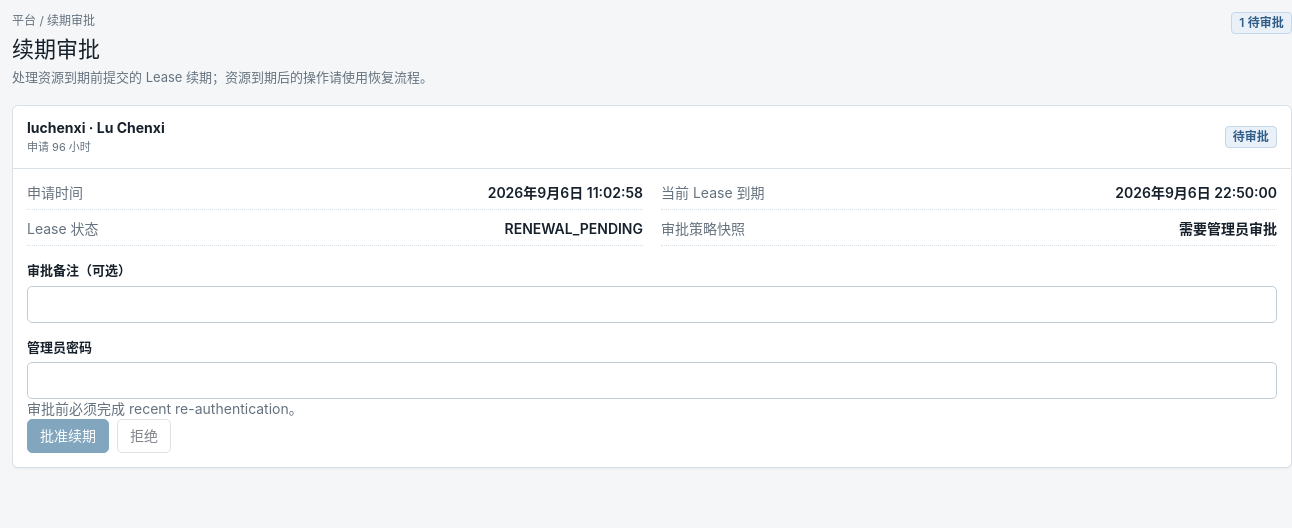
administrator lease renewal approval › shows a submitted renewal and reauthenticates before approval
The image size is (1292, 528).
expect the heading "续期审批" is shown: met, box [12,36,100,62]
expect the text "luchenxi · Lu Chenxi" is shown: met, box [27,118,165,138]
Type "fixture password only" into the password field labelled "管理员密码" at (652, 381), box [27,362,1277,399]
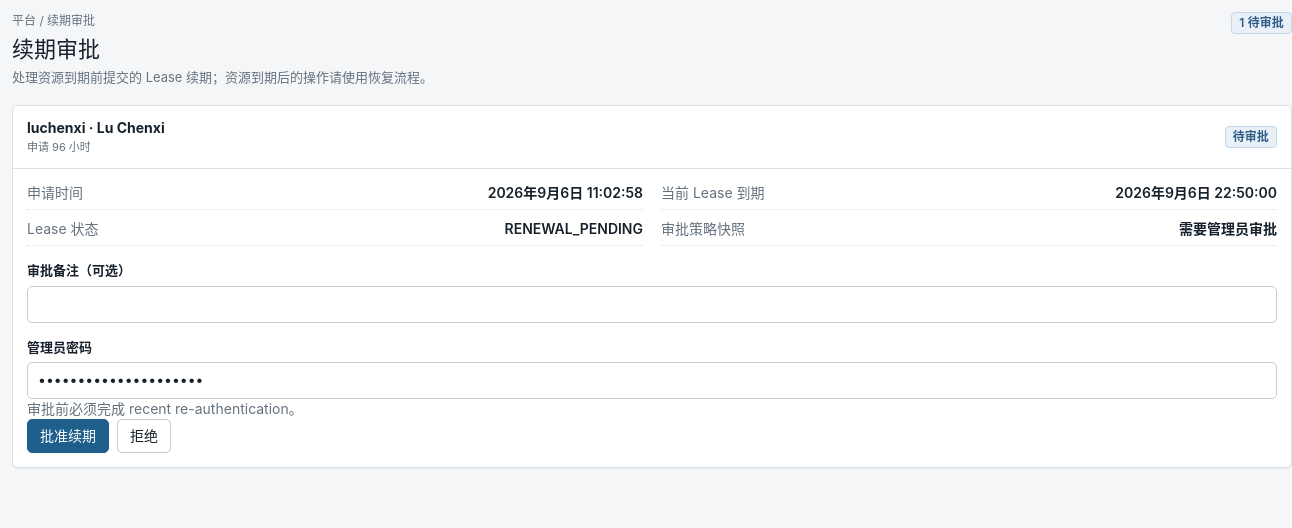
Type "  approved after review  " into the field labelled "审批备注（可选）" at (652, 304), box [27,286,1277,323]
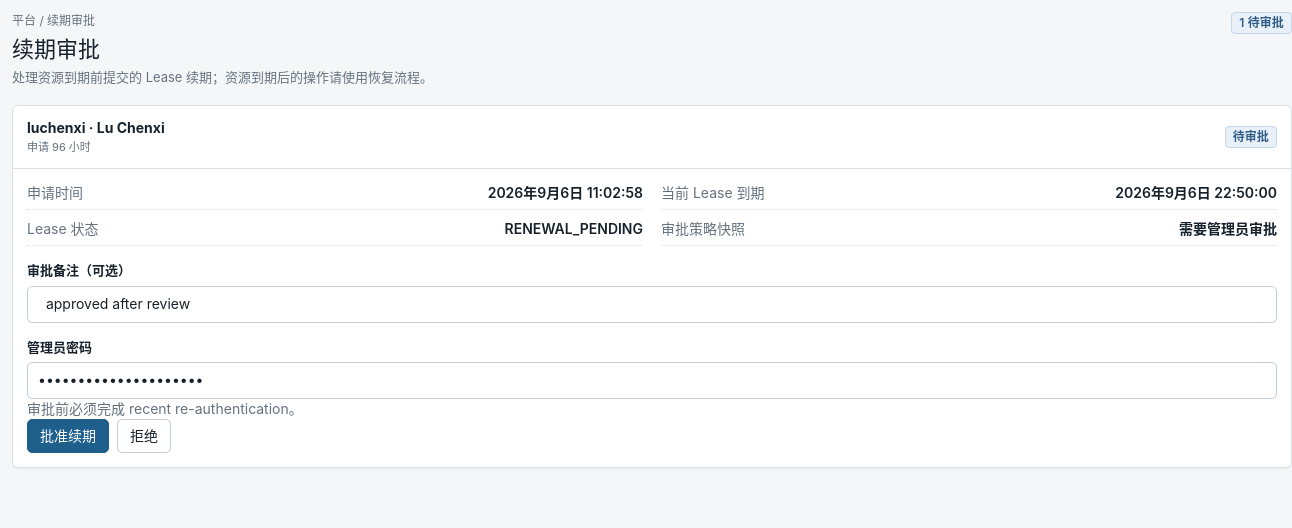
Click the button "批准续期" at (68, 436), box [27,419,109,453]
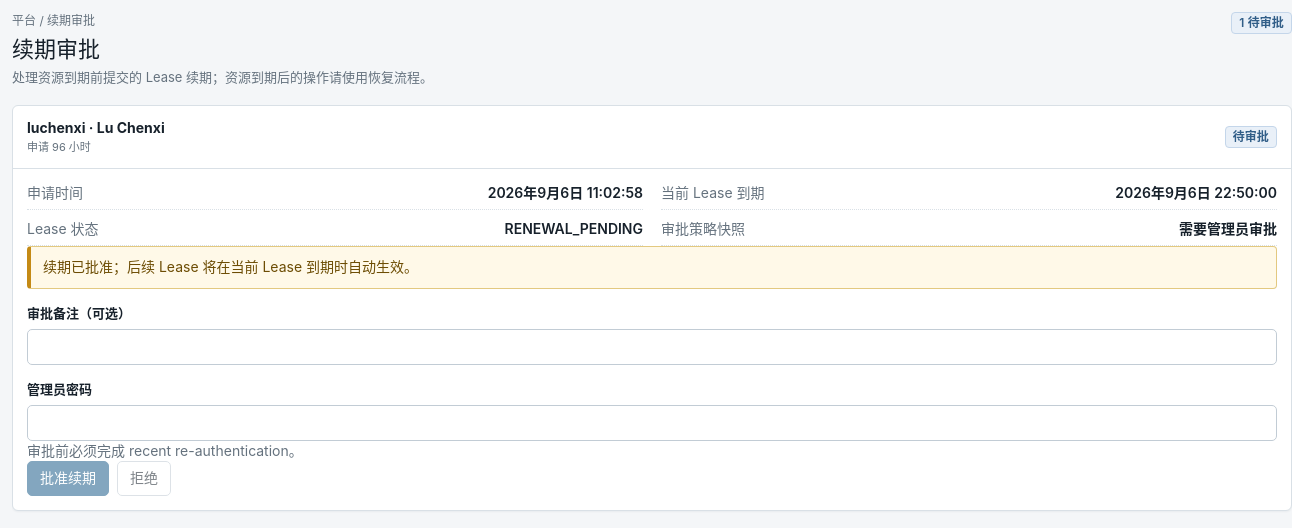
expect the text "续期已批准；后续 Lease 将在当前 Lease 到期时自动生效。" is shown: met, box [27,246,1277,289]
